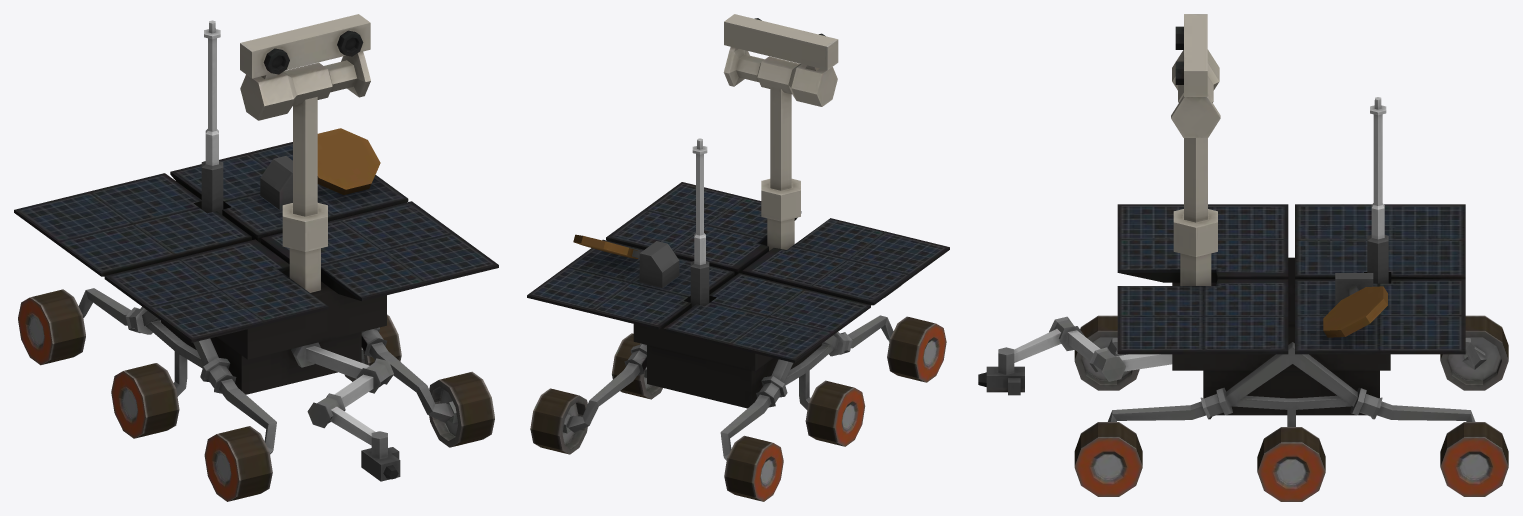
The model's file is dhLVA8z7cGo.glb.
3 renders of one model, left to right at view 1: azimuth 30°, elevation 25°; view 2: azimuth 150°, elevation 25°; view 3: azimuth 270°, elevation 25°, orthographic. The views are drawn at different scales.
Parts seen in each view (by area): view 1: SpaceRover_Mesh; view 2: SpaceRover_Mesh; view 3: SpaceRover_Mesh.
Part boxes in pixels (left/top/right/bottom): SpaceRover_Mesh: left=14, top=14, right=498, bottom=501; SpaceRover_Mesh: left=527, top=14, right=949, bottom=501; SpaceRover_Mesh: left=978, top=14, right=1508, bottom=501.
Bounding box in the file's own units: 0.7907 × 1 × 1.21.
1 material, 1 textured.
